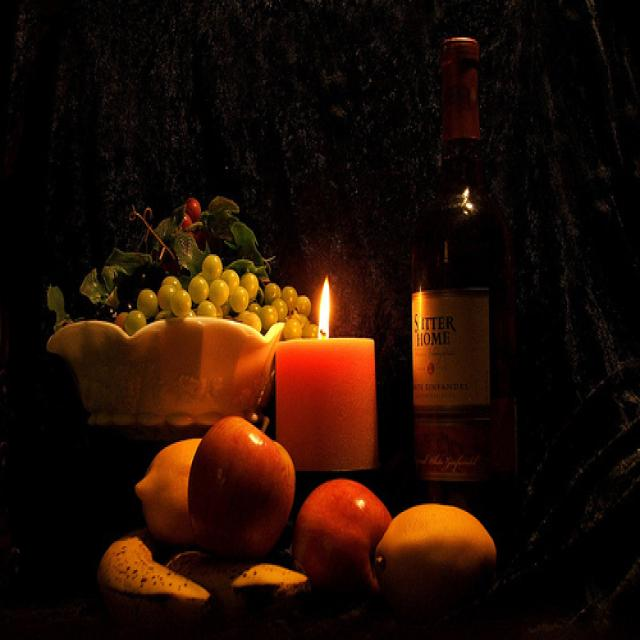Bottle: (409, 28, 535, 482)
